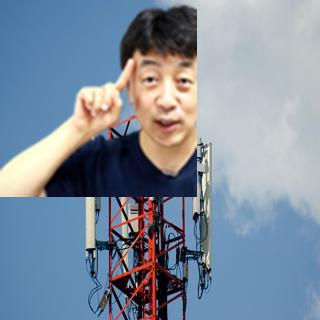IRRITATED: (71, 55, 138, 137)
